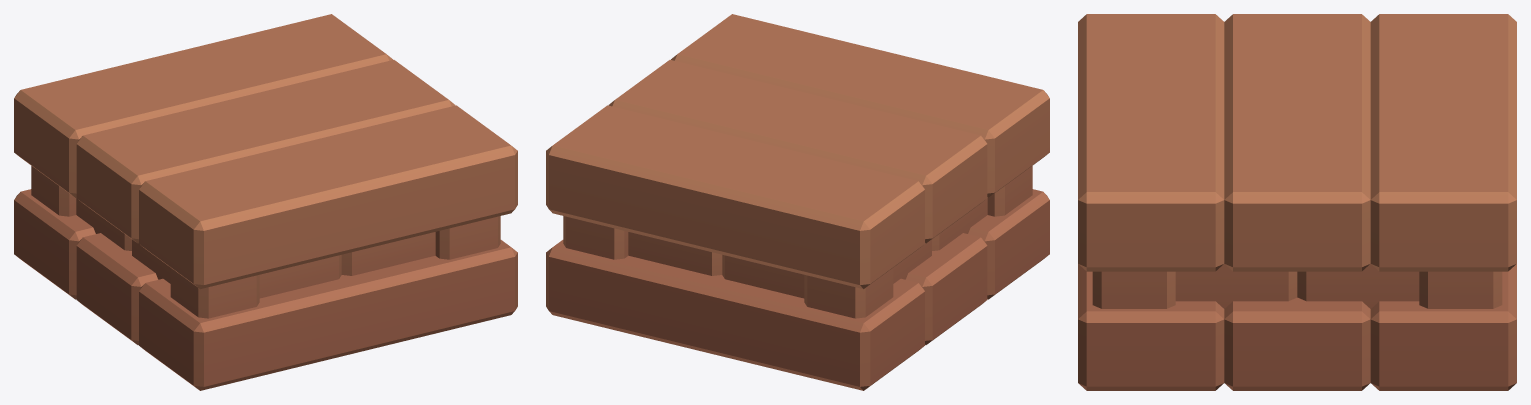
File: floor_wood_1x1.glb
The picture shows the model from 3 angles, left to right: view 1: azimuth 30°, elevation 25°; view 2: azimuth 150°, elevation 25°; view 3: azimuth 270°, elevation 25°; orthographic projection. The views are drawn at different scales.
Visible parts, largest first — view 1: floor_wood_1x1; view 2: floor_wood_1x1; view 3: floor_wood_1x1.
Part boxes in pixels (box(x1,y1,x2,y2)): floor_wood_1x1: box(14, 14, 517, 390); floor_wood_1x1: box(546, 14, 1049, 390); floor_wood_1x1: box(1078, 14, 1516, 390).
Size of the model in its own units: 1 by 0.5 by 1.
1 material, 1 textured.
